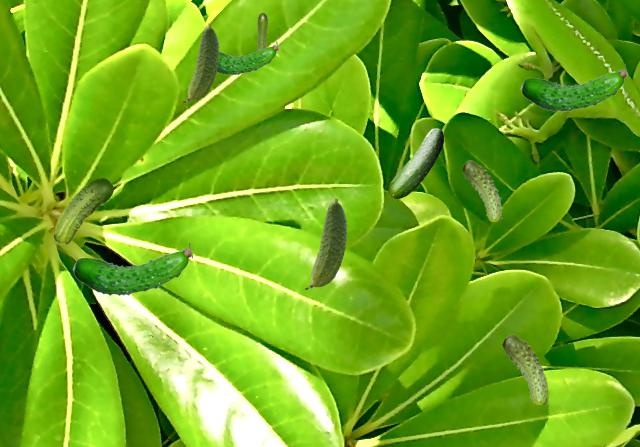cucumber: (72, 242, 191, 295), (520, 64, 626, 111), (53, 178, 112, 243), (305, 197, 346, 288), (388, 128, 442, 197), (502, 334, 547, 403), (183, 23, 218, 101), (462, 160, 501, 220), (217, 41, 277, 74), (257, 13, 266, 49)
